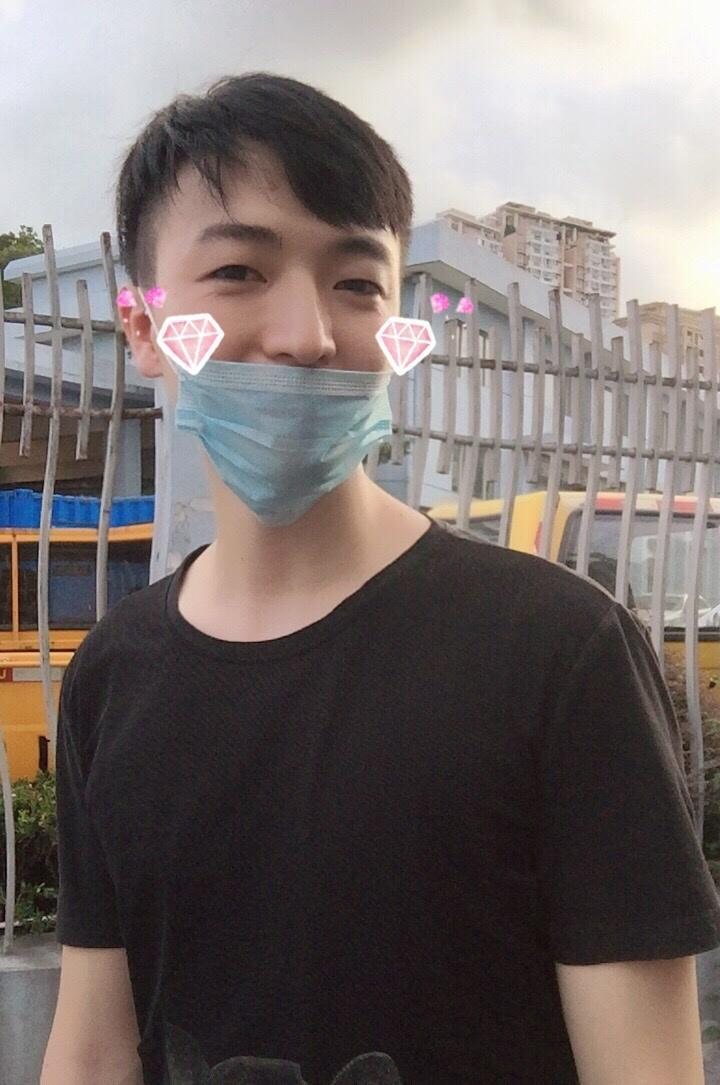WRONG: (138, 199, 406, 504)
